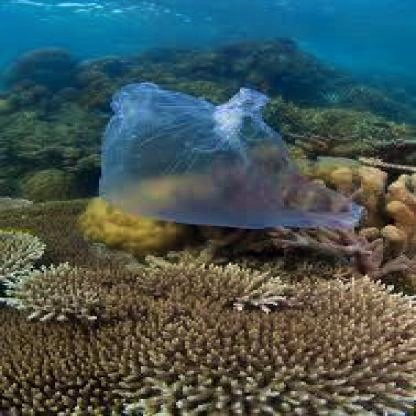pbag: (86, 76, 374, 237)
